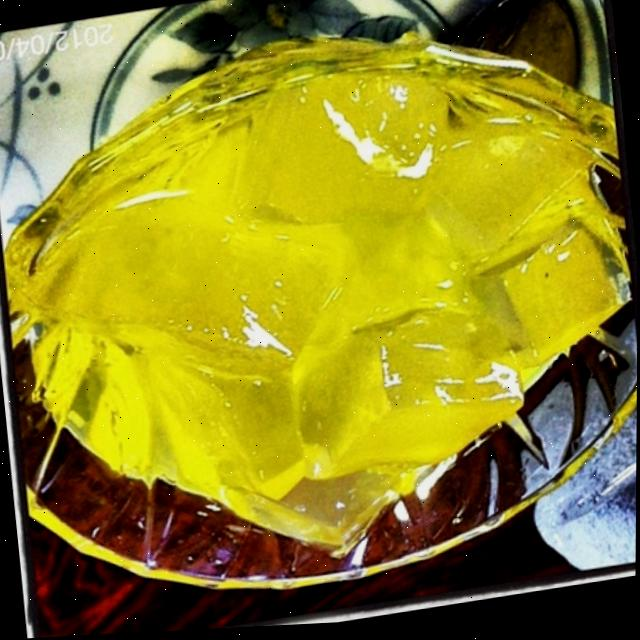蛋糕甜品: (0, 0, 640, 613)
